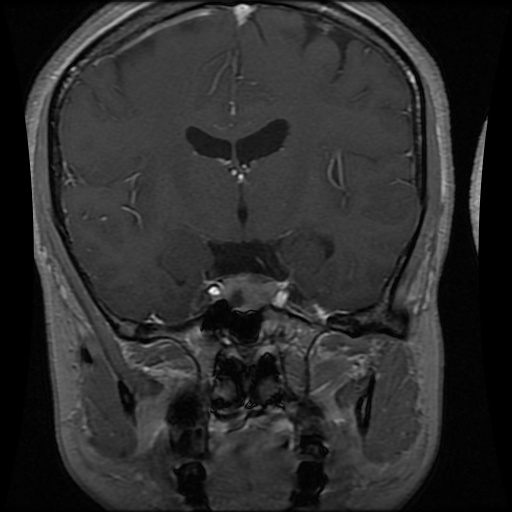pituitary: (222, 274, 278, 310)
